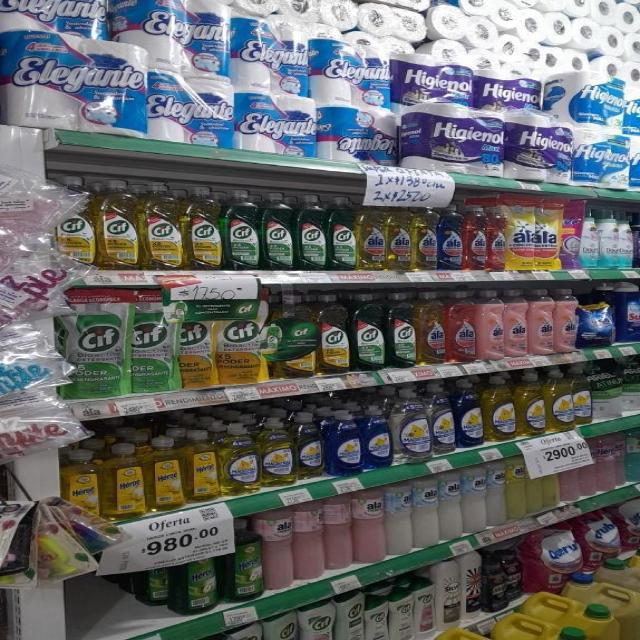ala_conc_amarillo: (416, 291, 446, 365), (356, 202, 384, 270), (386, 202, 411, 270), (412, 203, 437, 270)
ala_conc_azul: (438, 202, 463, 271)
ala_conc_rojo: (446, 290, 475, 363), (464, 203, 486, 271), (487, 200, 506, 271)
ala_crem_amarillo: (506, 457, 525, 521)
ala_crem_blanco: (385, 482, 412, 556), (413, 476, 439, 548), (439, 470, 462, 540), (462, 466, 486, 532), (486, 460, 505, 527)
ala_crem_rosado: (262, 507, 294, 591), (294, 501, 324, 581), (353, 488, 384, 564), (324, 494, 352, 571)
ala_sachet_amarillo: (506, 196, 534, 270), (536, 197, 559, 270)
ala_ultra_rosa: (580, 285, 614, 348), (476, 289, 504, 360), (528, 288, 554, 356), (554, 287, 579, 354), (504, 288, 527, 358)
cif_conc_bot_amarilla: (96, 178, 138, 270), (140, 181, 182, 271), (55, 176, 94, 268), (184, 186, 222, 270), (317, 293, 350, 373)
cif_conc_botella_verde: (224, 189, 259, 270), (351, 293, 385, 371), (261, 191, 293, 271), (295, 194, 325, 271), (386, 292, 416, 368), (326, 196, 354, 271)
cif_conc_sachet_amarillo: (217, 292, 264, 385), (177, 292, 214, 389)
cif_conc_sachet_verde: (64, 288, 127, 398), (129, 290, 174, 393)
drive: (560, 198, 580, 269), (580, 200, 599, 269)
heroe: (225, 516, 262, 602)
magistral_con_amarillo: (220, 422, 258, 496), (393, 387, 428, 464), (259, 416, 294, 487), (294, 411, 324, 481), (484, 376, 515, 442), (516, 371, 545, 437), (546, 368, 572, 431)
magistral_con_azul: (326, 409, 361, 476), (362, 404, 392, 468), (456, 378, 482, 448), (429, 382, 454, 453)
